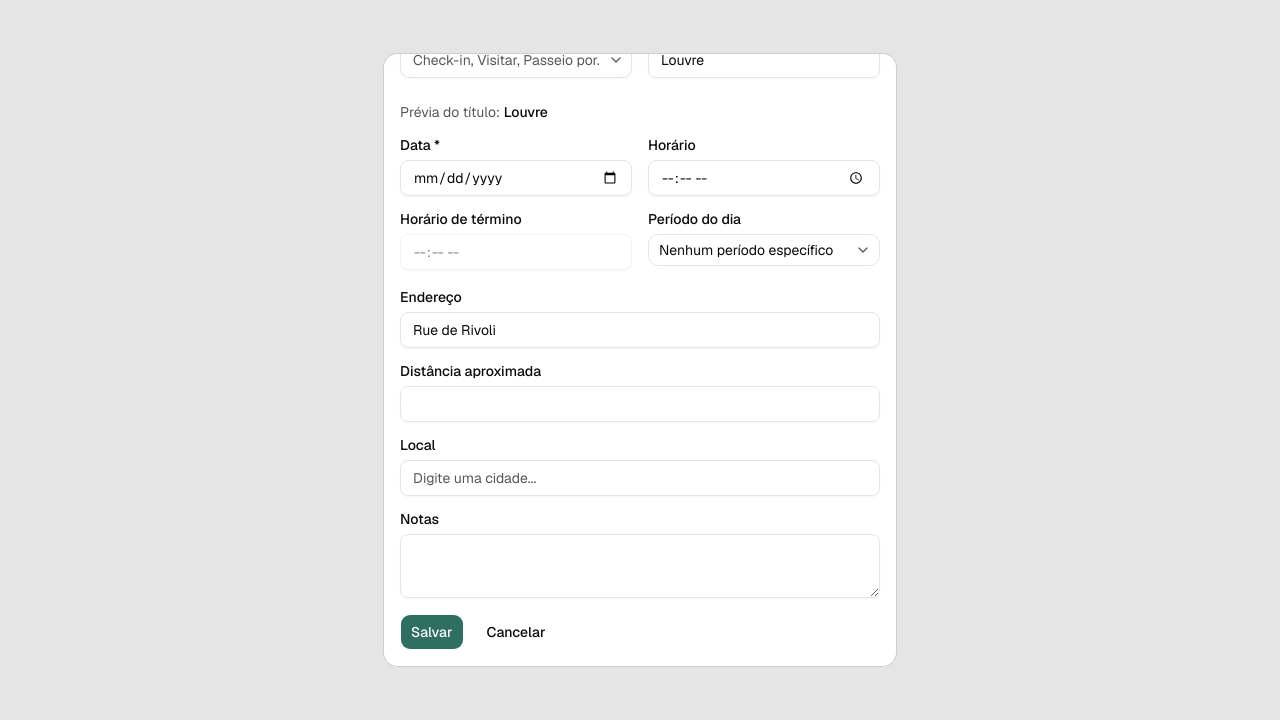
Test: NewItineraryItemModal 'fromTemplate' prop (#232/R05) › requires a date - the server rejects an empty one the same as a full save
(page scrolled)
Click the button "Salvar" at (432, 632), box 400,614 -> 464,650
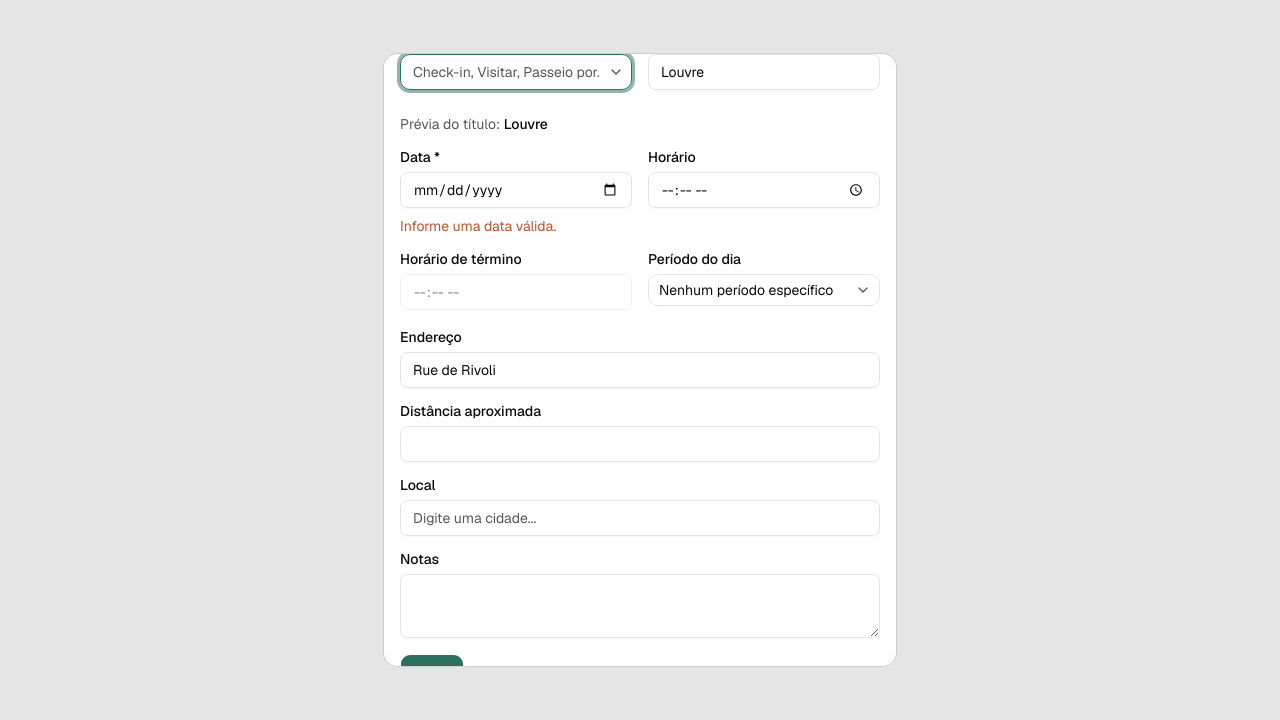
expect the text "Informe uma data válida." is shown: met, box 400,217 -> 556,235
